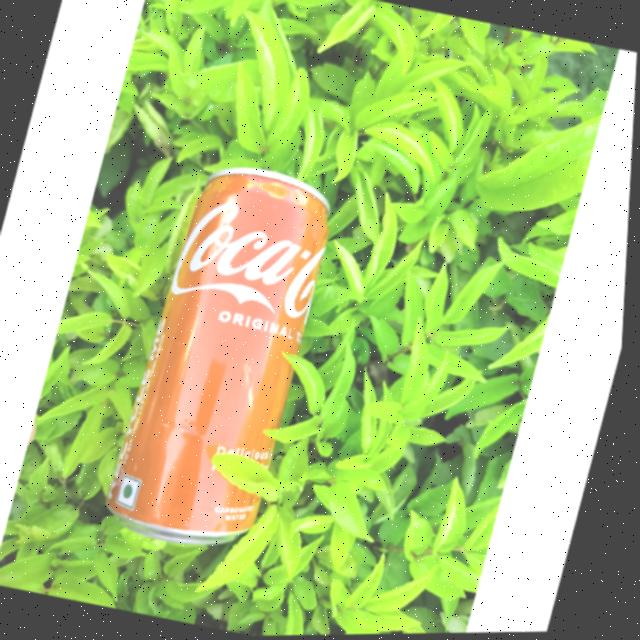Coca Cola: (92, 148, 349, 564)
